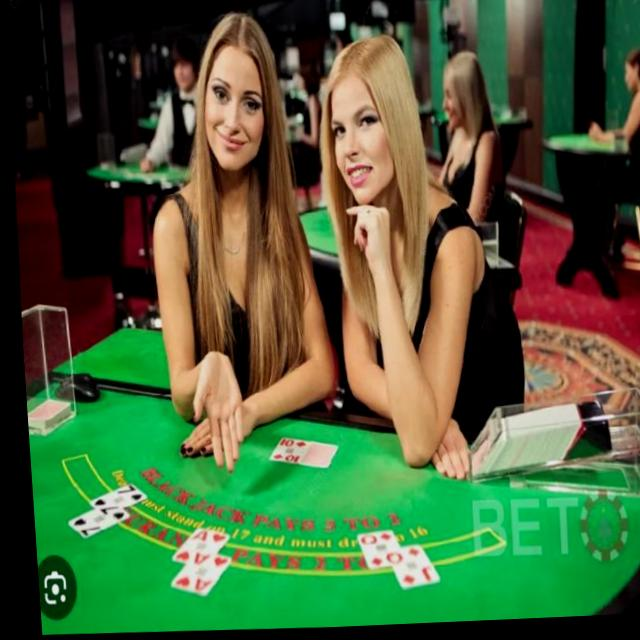Card-10: (262, 438, 303, 465)
Card-7: (82, 483, 139, 518), (60, 509, 121, 538)
Card-A: (162, 556, 223, 598), (165, 530, 222, 573)
Card-J: (384, 547, 431, 592)
Card-Q: (350, 533, 395, 572)
